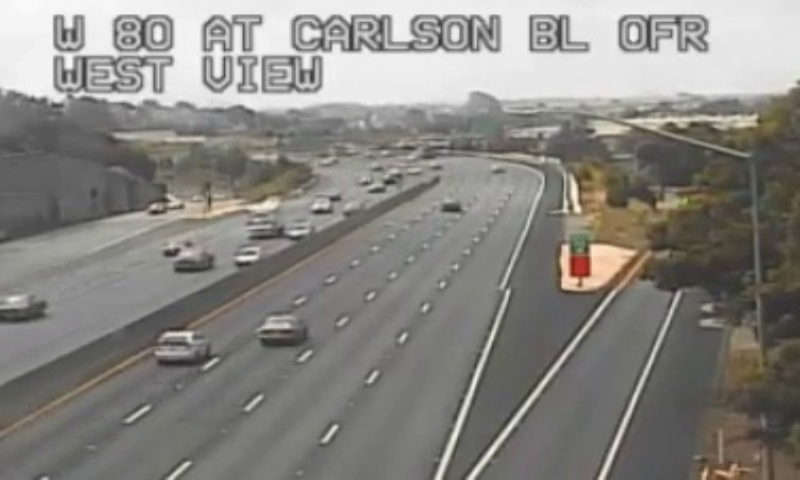car: (153, 330, 206, 362), (255, 315, 306, 344)
